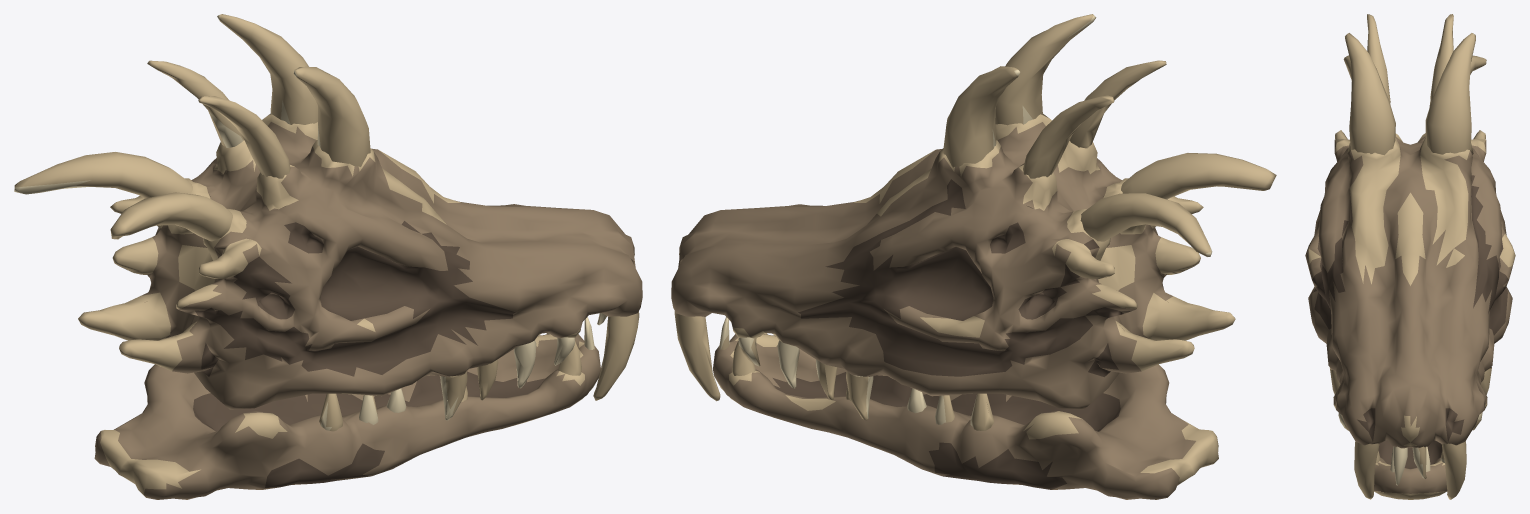
Rendered from dragon_skull.glb.
3 renders of one model, left to right at view 1: azimuth 30°, elevation 25°; view 2: azimuth 150°, elevation 25°; view 3: azimuth 270°, elevation 25°, orthographic. The views are drawn at different scales.
Visible parts, largest first — view 1: dragon_skull; view 2: dragon_skull; view 3: dragon_skull.
Boxes of the visible parts, left/top/right/bottom form: dragon_skull: left=14, top=14, right=642, bottom=499; dragon_skull: left=671, top=14, right=1276, bottom=499; dragon_skull: left=1305, top=14, right=1515, bottom=499.
Bounding box in the file's own units: 0.8 × 0.5724 × 0.3101.
